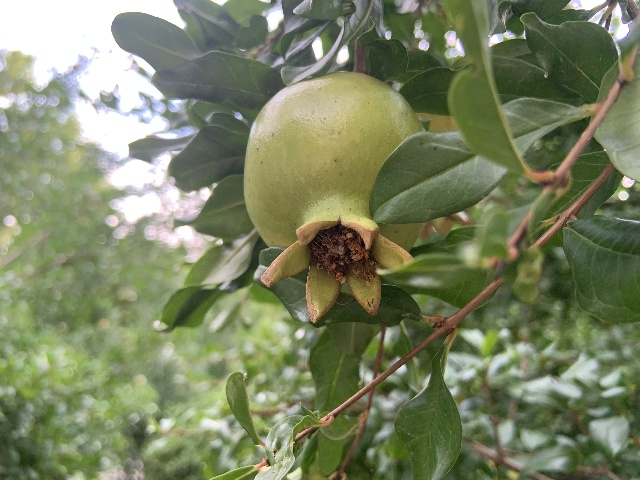mid-growth: (241, 72, 443, 323)
